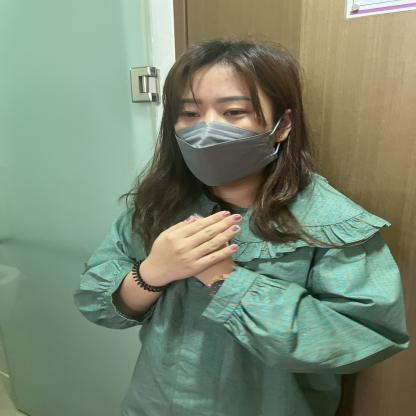Grieve: (105, 197, 337, 304)
